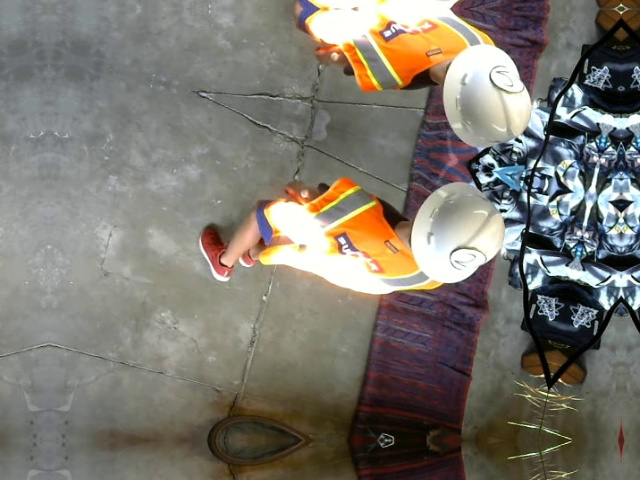two: (446, 243, 488, 277)
